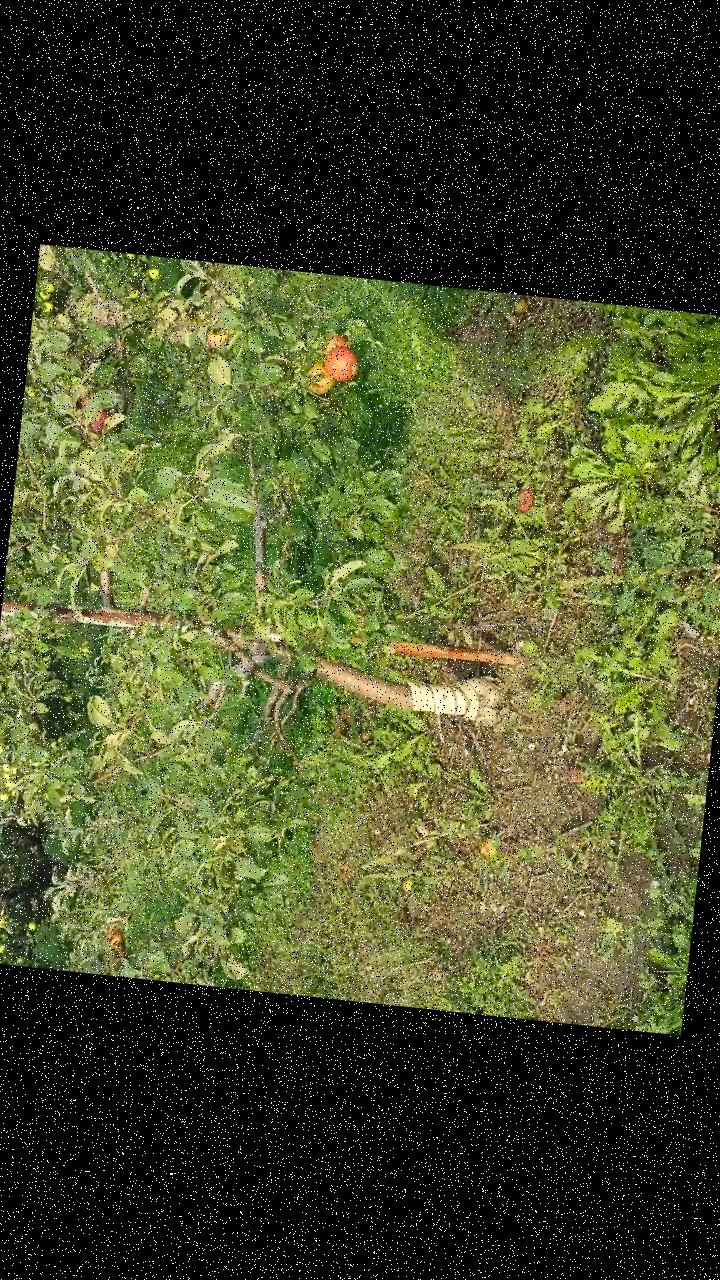Apple: (320, 346, 356, 382), (304, 366, 334, 398), (103, 925, 126, 959), (87, 411, 109, 436), (324, 333, 345, 352), (203, 334, 226, 351)
